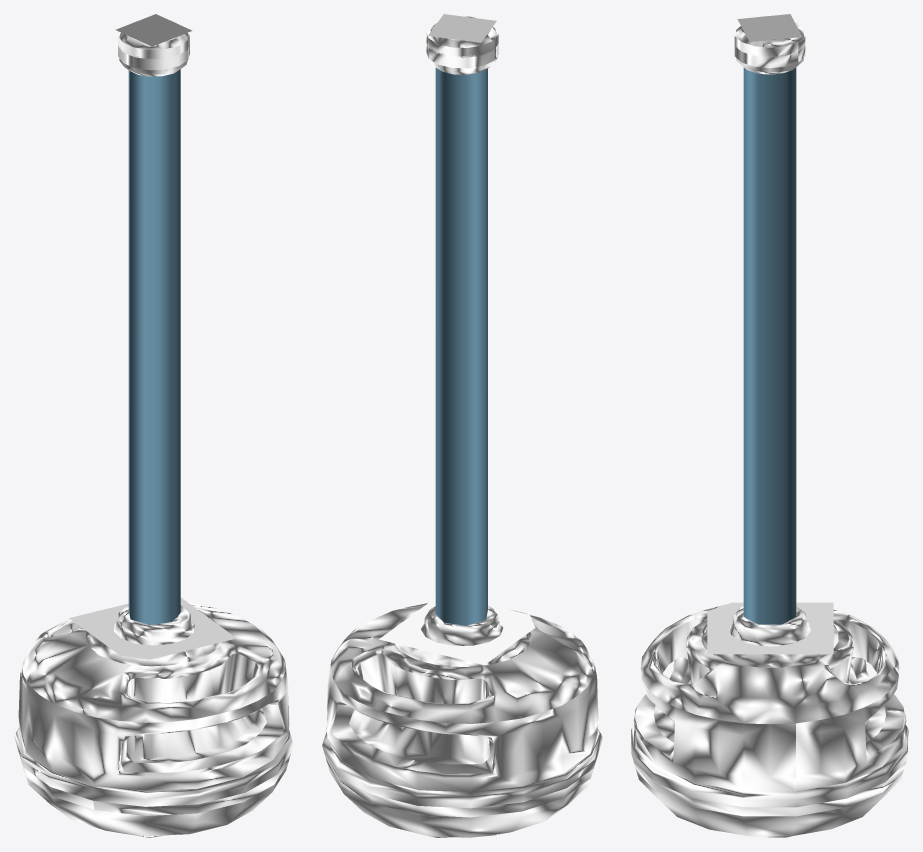
The model's file is light_work-light_2_a.glb.
3 renders of one model, left to right at view 1: azimuth 30°, elevation 25°; view 2: azimuth 150°, elevation 25°; view 3: azimuth 270°, elevation 25°, orthographic.
Bounding box in the file's own units: 0.4649 × 1.45 × 0.4678.
